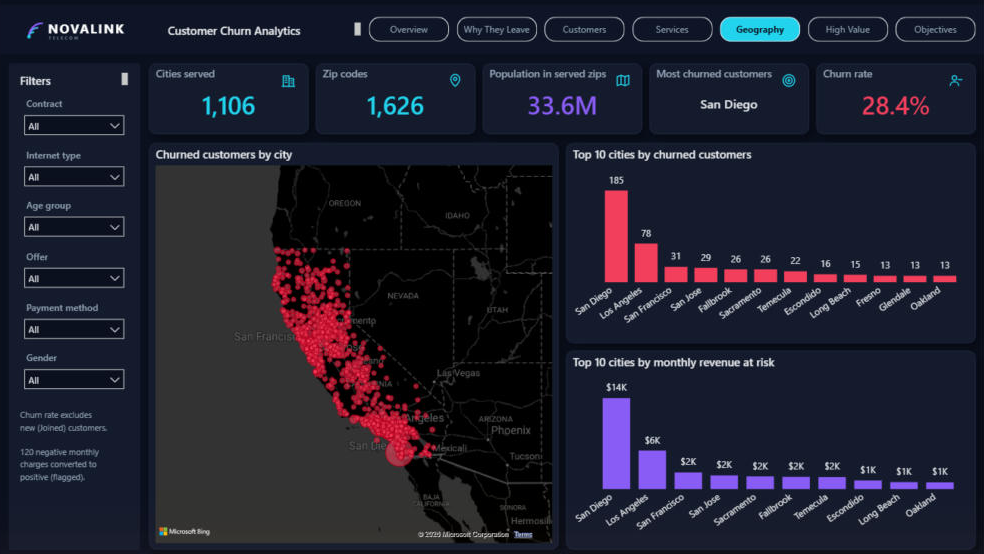

This screenshot's page, from the dashboard's own definition file:
{"tool":"powerbi","page":{"name":"Geography","canvas":[1280,720],"ordinal":4},"visuals":[{"type":"textbox","box":[0,0,1280,64],"z":10900},{"type":"image","box":[14,8,196,48],"z":11000},{"type":"textbox","box":[214,18,260,32],"z":11100},{"type":"pageNavigator","box":[480,16,788,32],"z":11200},{"type":"textbox","box":[12,76,170,632],"z":11300},{"type":"textbox","box":[22,84,150,26],"z":11400},{"type":"slicer","fields":{"Values":["Customers.Contract"]},"box":[22,116,150,58],"z":11500},{"type":"slicer","fields":{"Values":["Customers.Internet Type"]},"box":[22,182,150,58],"z":11600},{"type":"slicer","fields":{"Values":["Customers.Age Group"]},"box":[22,248,150,58],"z":11700},{"type":"slicer","fields":{"Values":["Customers.Offer"]},"box":[22,314,150,58],"z":11800},{"type":"slicer","fields":{"Values":["Customers.Payment Method"]},"box":[22,380,150,58],"z":11900},{"type":"slicer","fields":{"Values":["Customers.Gender"]},"box":[22,446,150,58],"z":12000},{"type":"textbox","box":[22,520,150,180],"z":12100},{"type":"card","title":"Cities served","fields":{"Values":["Metrics.Cities"]},"box":[194,76,207,92],"z":12200},{"type":"image","box":[361,84,30,30],"z":12300},{"type":"card","title":"Zip codes","fields":{"Values":["Metrics.Zip Codes"]},"box":[411,76,207,92],"z":12400},{"type":"image","box":[578,84,30,30],"z":12500},{"type":"card","title":"Population in served zips","fields":{"Values":["Metrics.Population Covered"]},"box":[628,76,207,92],"z":12600},{"type":"image","box":[795,84,30,30],"z":12700},{"type":"card","title":"Most churned customers","fields":{"Values":["Metrics.Top City by Churned"]},"box":[844,76,207,92],"z":12800},{"type":"image","box":[1011,84,30,30],"z":12900},{"type":"card","title":"Churn rate","fields":{"Values":["Metrics.Churn Rate"]},"box":[1061,76,207,92],"z":13000},{"type":"image","box":[1228,84,30,30],"z":13100},{"type":"map","title":"Churned customers by city","fields":{"Category":["Locations.City"],"Size":["Metrics.Churned"],"X":["Avg(Locations.Longitude)"],"Y":["Avg(Locations.Latitude)"]},"box":[194,180,532,528],"z":13200},{"type":"clusteredColumnChart","title":"Top 10 cities by churned customers","fields":{"Category":["Locations.City"],"Y":["Metrics.Churned"]},"box":[736,180,532,260],"z":13300},{"type":"clusteredColumnChart","title":"Top 10 cities by monthly revenue at risk","fields":{"Category":["Locations.City"],"Y":["Metrics.Monthly Revenue at Risk"]},"box":[736,450,532,258],"z":13400}]}

Visuals, with their boxes in screenshot pixels (x1, y1, x2, y2), scaled from the page's 1280x720 canvas onto the 984x554 screenshot:
textbox: pyautogui.locateOnScreen(0, 0, 983, 49)
image: pyautogui.locateOnScreen(11, 6, 161, 43)
textbox: pyautogui.locateOnScreen(165, 14, 364, 38)
pageNavigator: pyautogui.locateOnScreen(369, 12, 975, 37)
textbox: pyautogui.locateOnScreen(9, 58, 140, 545)
textbox: pyautogui.locateOnScreen(17, 65, 132, 85)
slicer - Customers.Contract: pyautogui.locateOnScreen(17, 89, 132, 134)
slicer - Customers.Internet Type: pyautogui.locateOnScreen(17, 140, 132, 185)
slicer - Customers.Age Group: pyautogui.locateOnScreen(17, 191, 132, 235)
slicer - Customers.Offer: pyautogui.locateOnScreen(17, 242, 132, 286)
slicer - Customers.Payment Method: pyautogui.locateOnScreen(17, 292, 132, 337)
slicer - Customers.Gender: pyautogui.locateOnScreen(17, 343, 132, 388)
textbox: pyautogui.locateOnScreen(17, 400, 132, 539)
"Cities served" card: pyautogui.locateOnScreen(149, 58, 308, 129)
image: pyautogui.locateOnScreen(278, 65, 301, 88)
"Zip codes" card: pyautogui.locateOnScreen(316, 58, 475, 129)
image: pyautogui.locateOnScreen(444, 65, 467, 88)
"Population in served zips" card: pyautogui.locateOnScreen(483, 58, 642, 129)
image: pyautogui.locateOnScreen(611, 65, 634, 88)
"Most churned customers" card: pyautogui.locateOnScreen(649, 58, 808, 129)
image: pyautogui.locateOnScreen(777, 65, 800, 88)
"Churn rate" card: pyautogui.locateOnScreen(816, 58, 975, 129)
image: pyautogui.locateOnScreen(944, 65, 967, 88)
"Churned customers by city" map: pyautogui.locateOnScreen(149, 138, 558, 545)
"Top 10 cities by churned customers" clusteredColumnChart: pyautogui.locateOnScreen(566, 138, 975, 339)
"Top 10 cities by monthly revenue at risk" clusteredColumnChart: pyautogui.locateOnScreen(566, 346, 975, 545)
